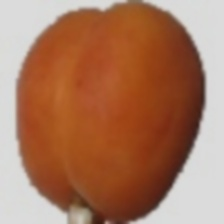apricot: (39, 48, 224, 192)
